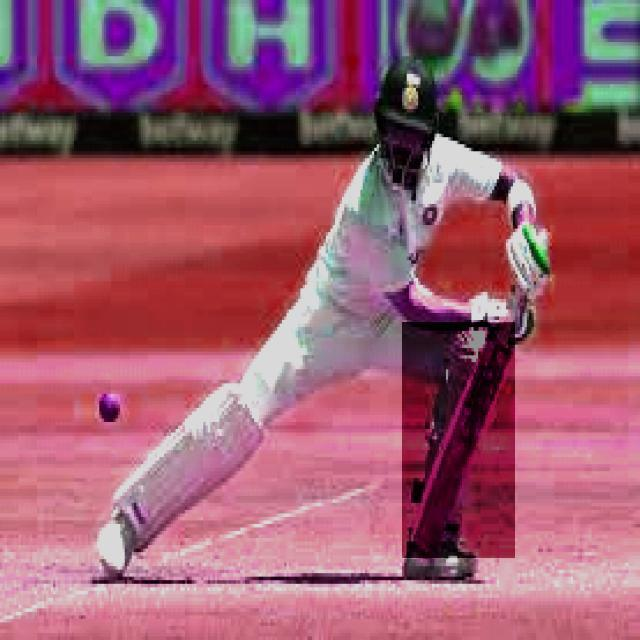bat: (405, 323, 511, 555)
toe: (405, 523, 436, 559)
